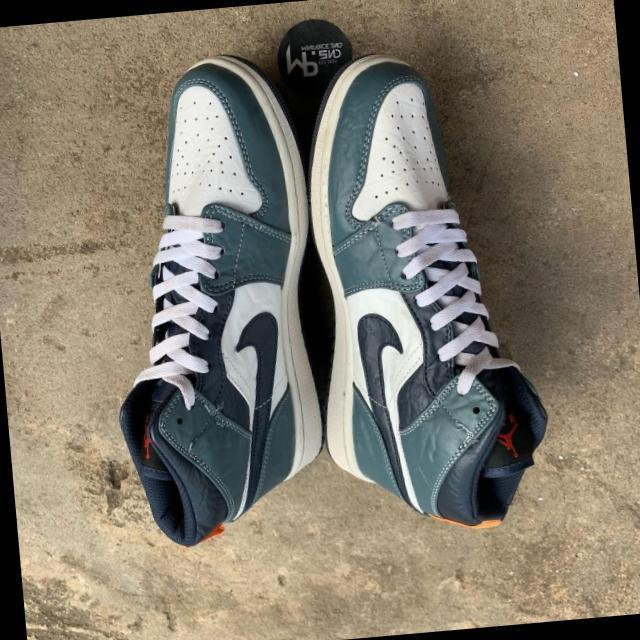nike fake jordan 1: (294, 39, 557, 544), (88, 48, 338, 552)
